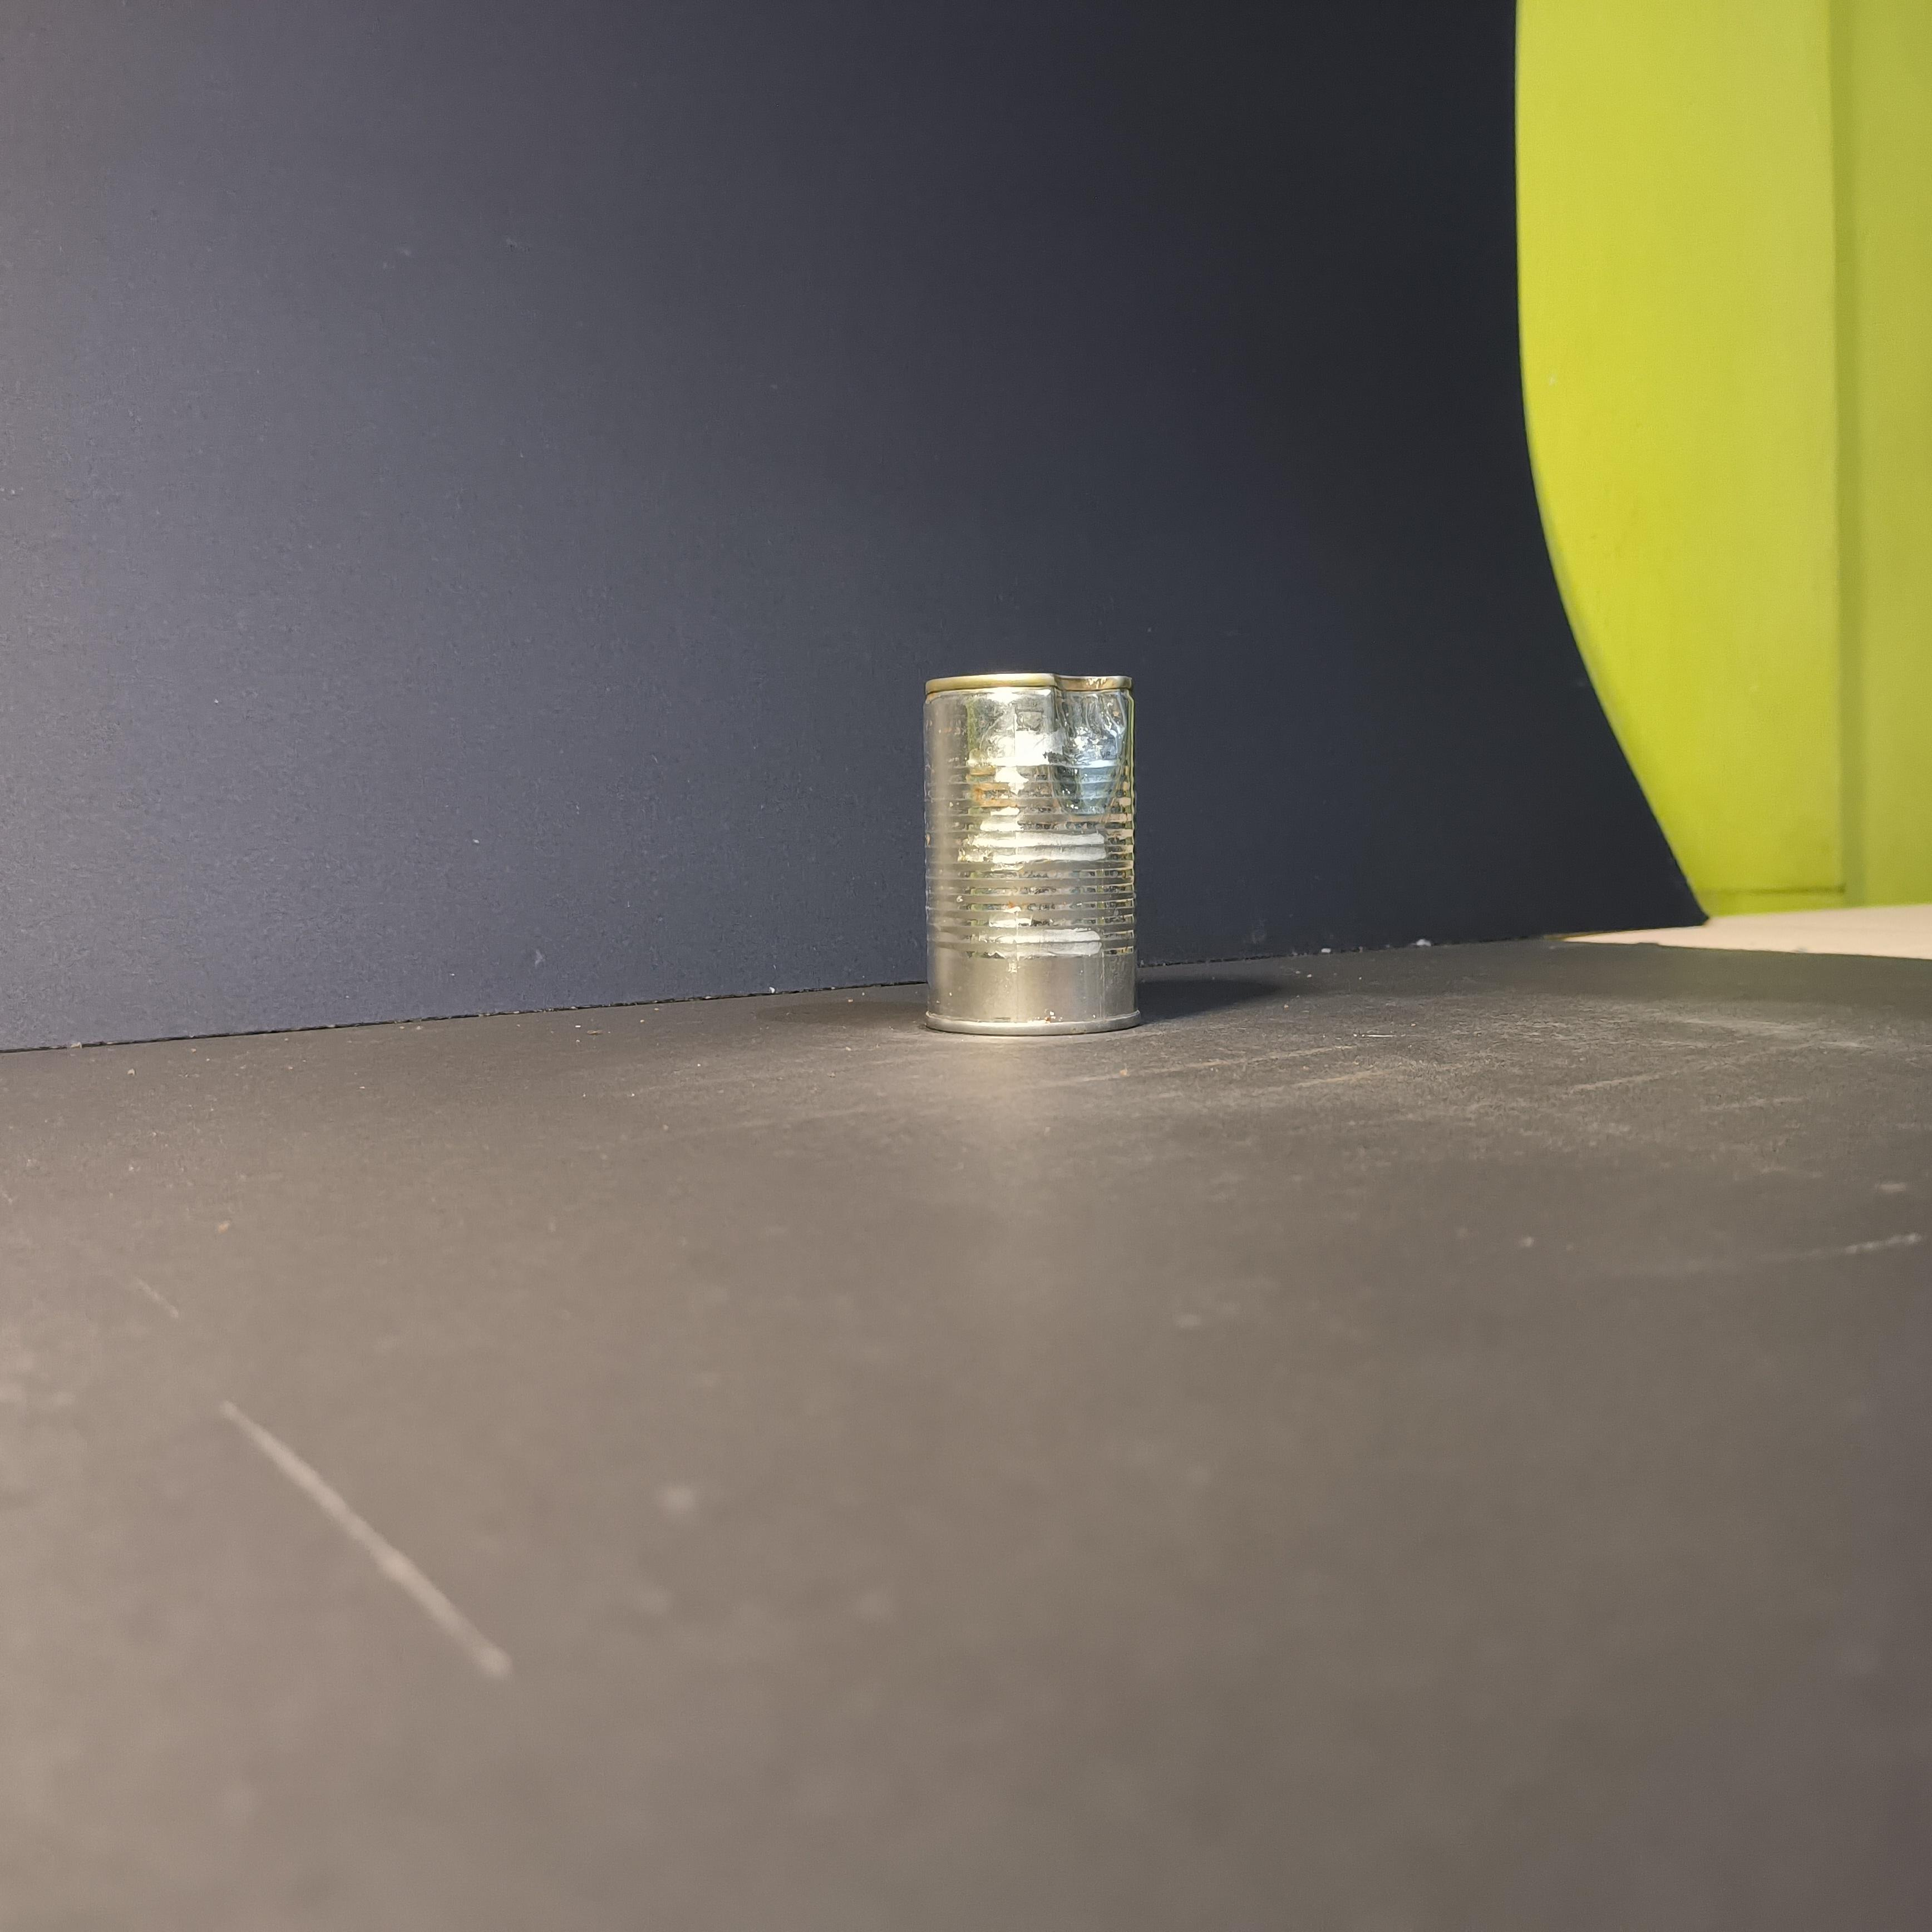Dented: (899, 646, 1175, 1063)
